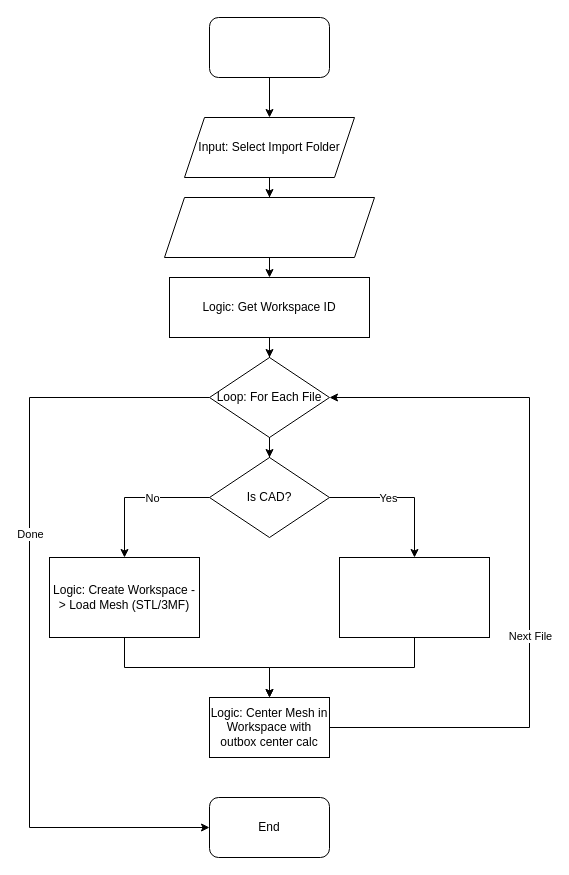
This 569x875 diagram has some shape labels left out. The shapes that lost their labels are listed below. From the top down, each one's centre as x and y in pixels, then its label:
At pixel 269 47: "Start".
At pixel 269 227: "Input: Machine Name".
At pixel 414 597: "Logic: Create Workspace -> Load CAD (STEP Params, Kernel 0-10)".
